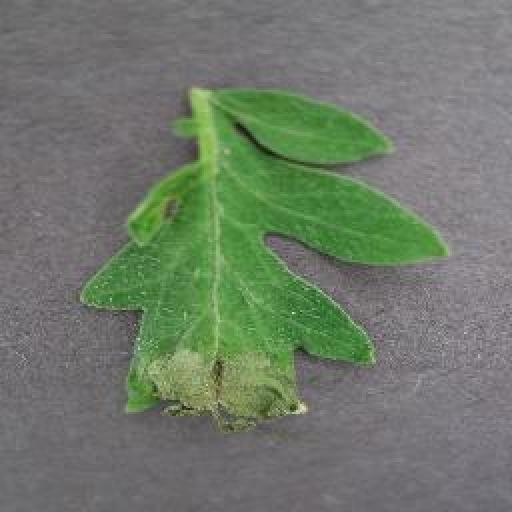Late Blight: (79, 86, 449, 438)
